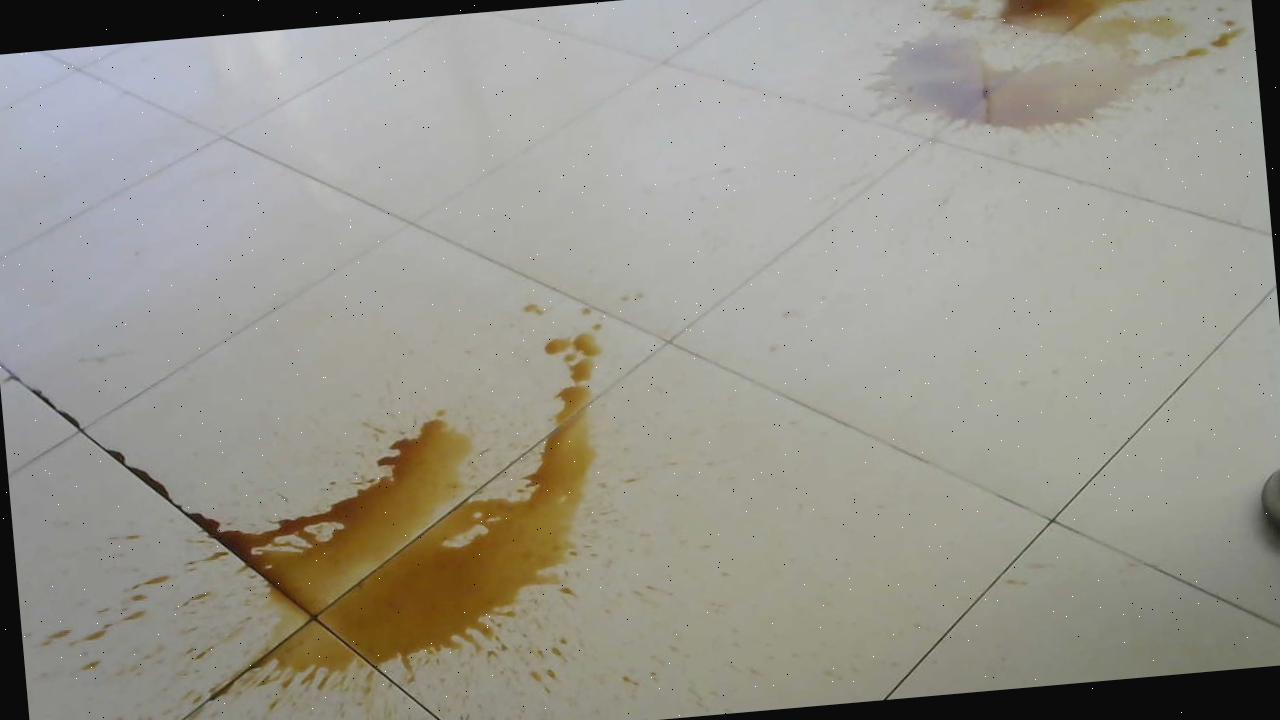dirty_floor: (210, 310, 631, 708), (853, 0, 1257, 157)
